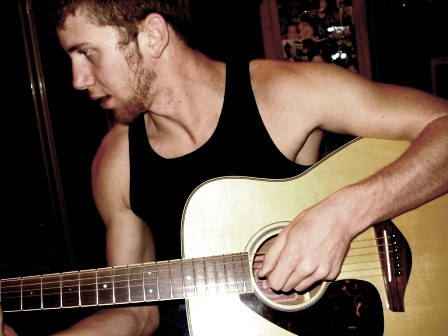guitar: (2, 135, 447, 336)
